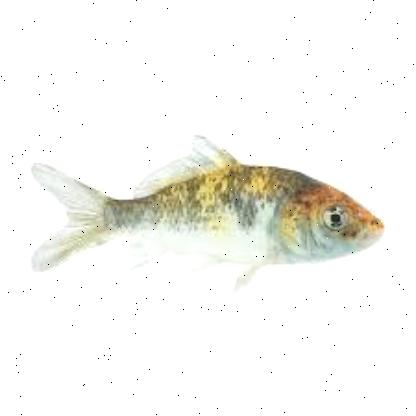ikan-mas: (26, 136, 382, 286)
